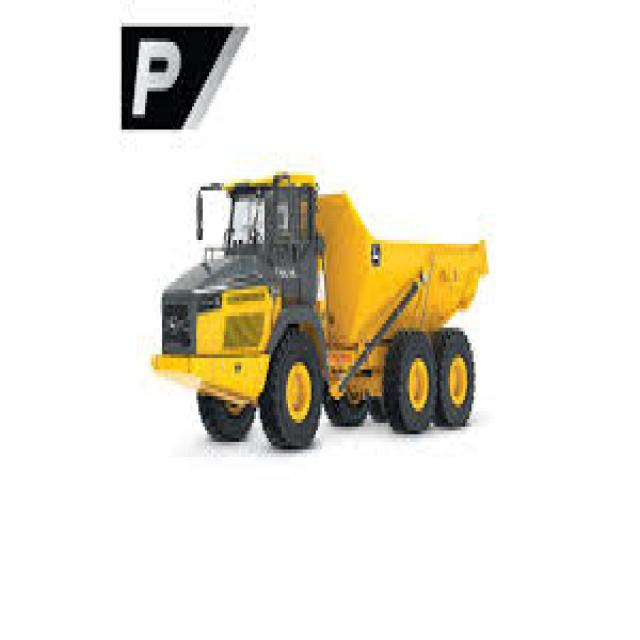dump_truck: (144, 162, 495, 456)
